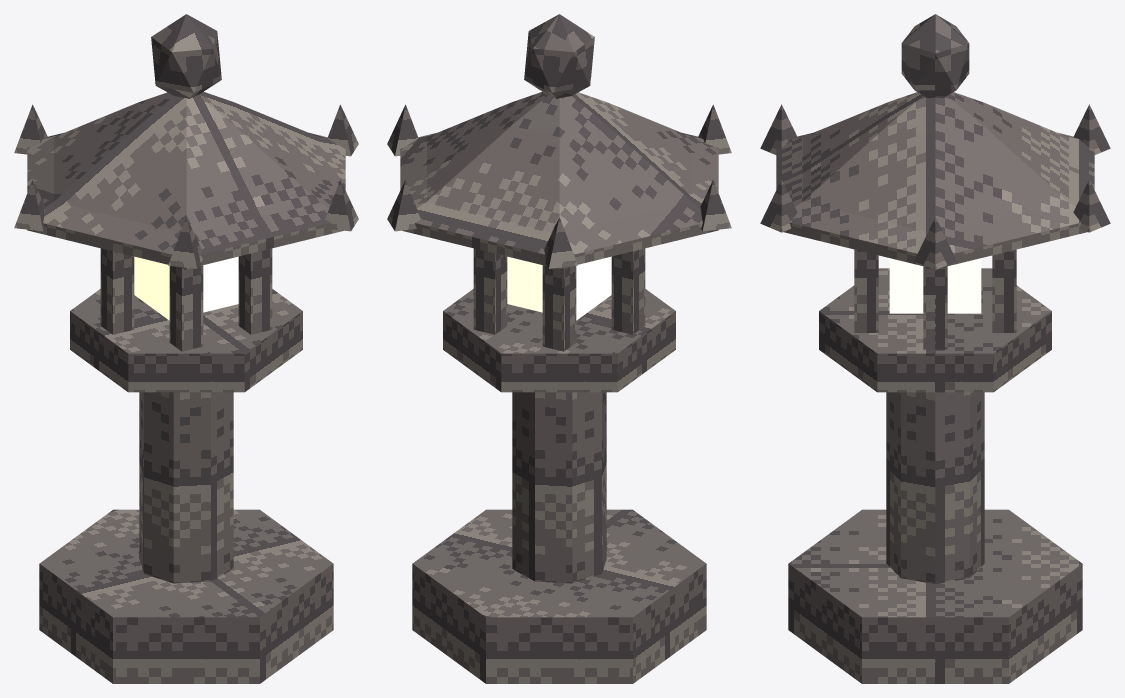
File: iris_lantern.glb
3 views of the same model, side by side, from view 1: azimuth 30°, elevation 25°; view 2: azimuth 150°, elevation 25°; view 3: azimuth 270°, elevation 25° (orthographic).
Parts seen in each view (by area): view 1: Lantern, Flame; view 2: Lantern, Flame; view 3: Lantern, Flame.
Part boxes in pixels (x1,y1,x2,y2): Lantern: (14,14,358,683); Flame: (134,256,238,320); Lantern: (387,14,731,683); Flame: (507,256,611,320); Lantern: (760,14,1110,683); Flame: (889,258,981,313).
Bounding box in the file's own units: 1.3 × 2.22 × 1.14.
2 materials, 1 textured.
